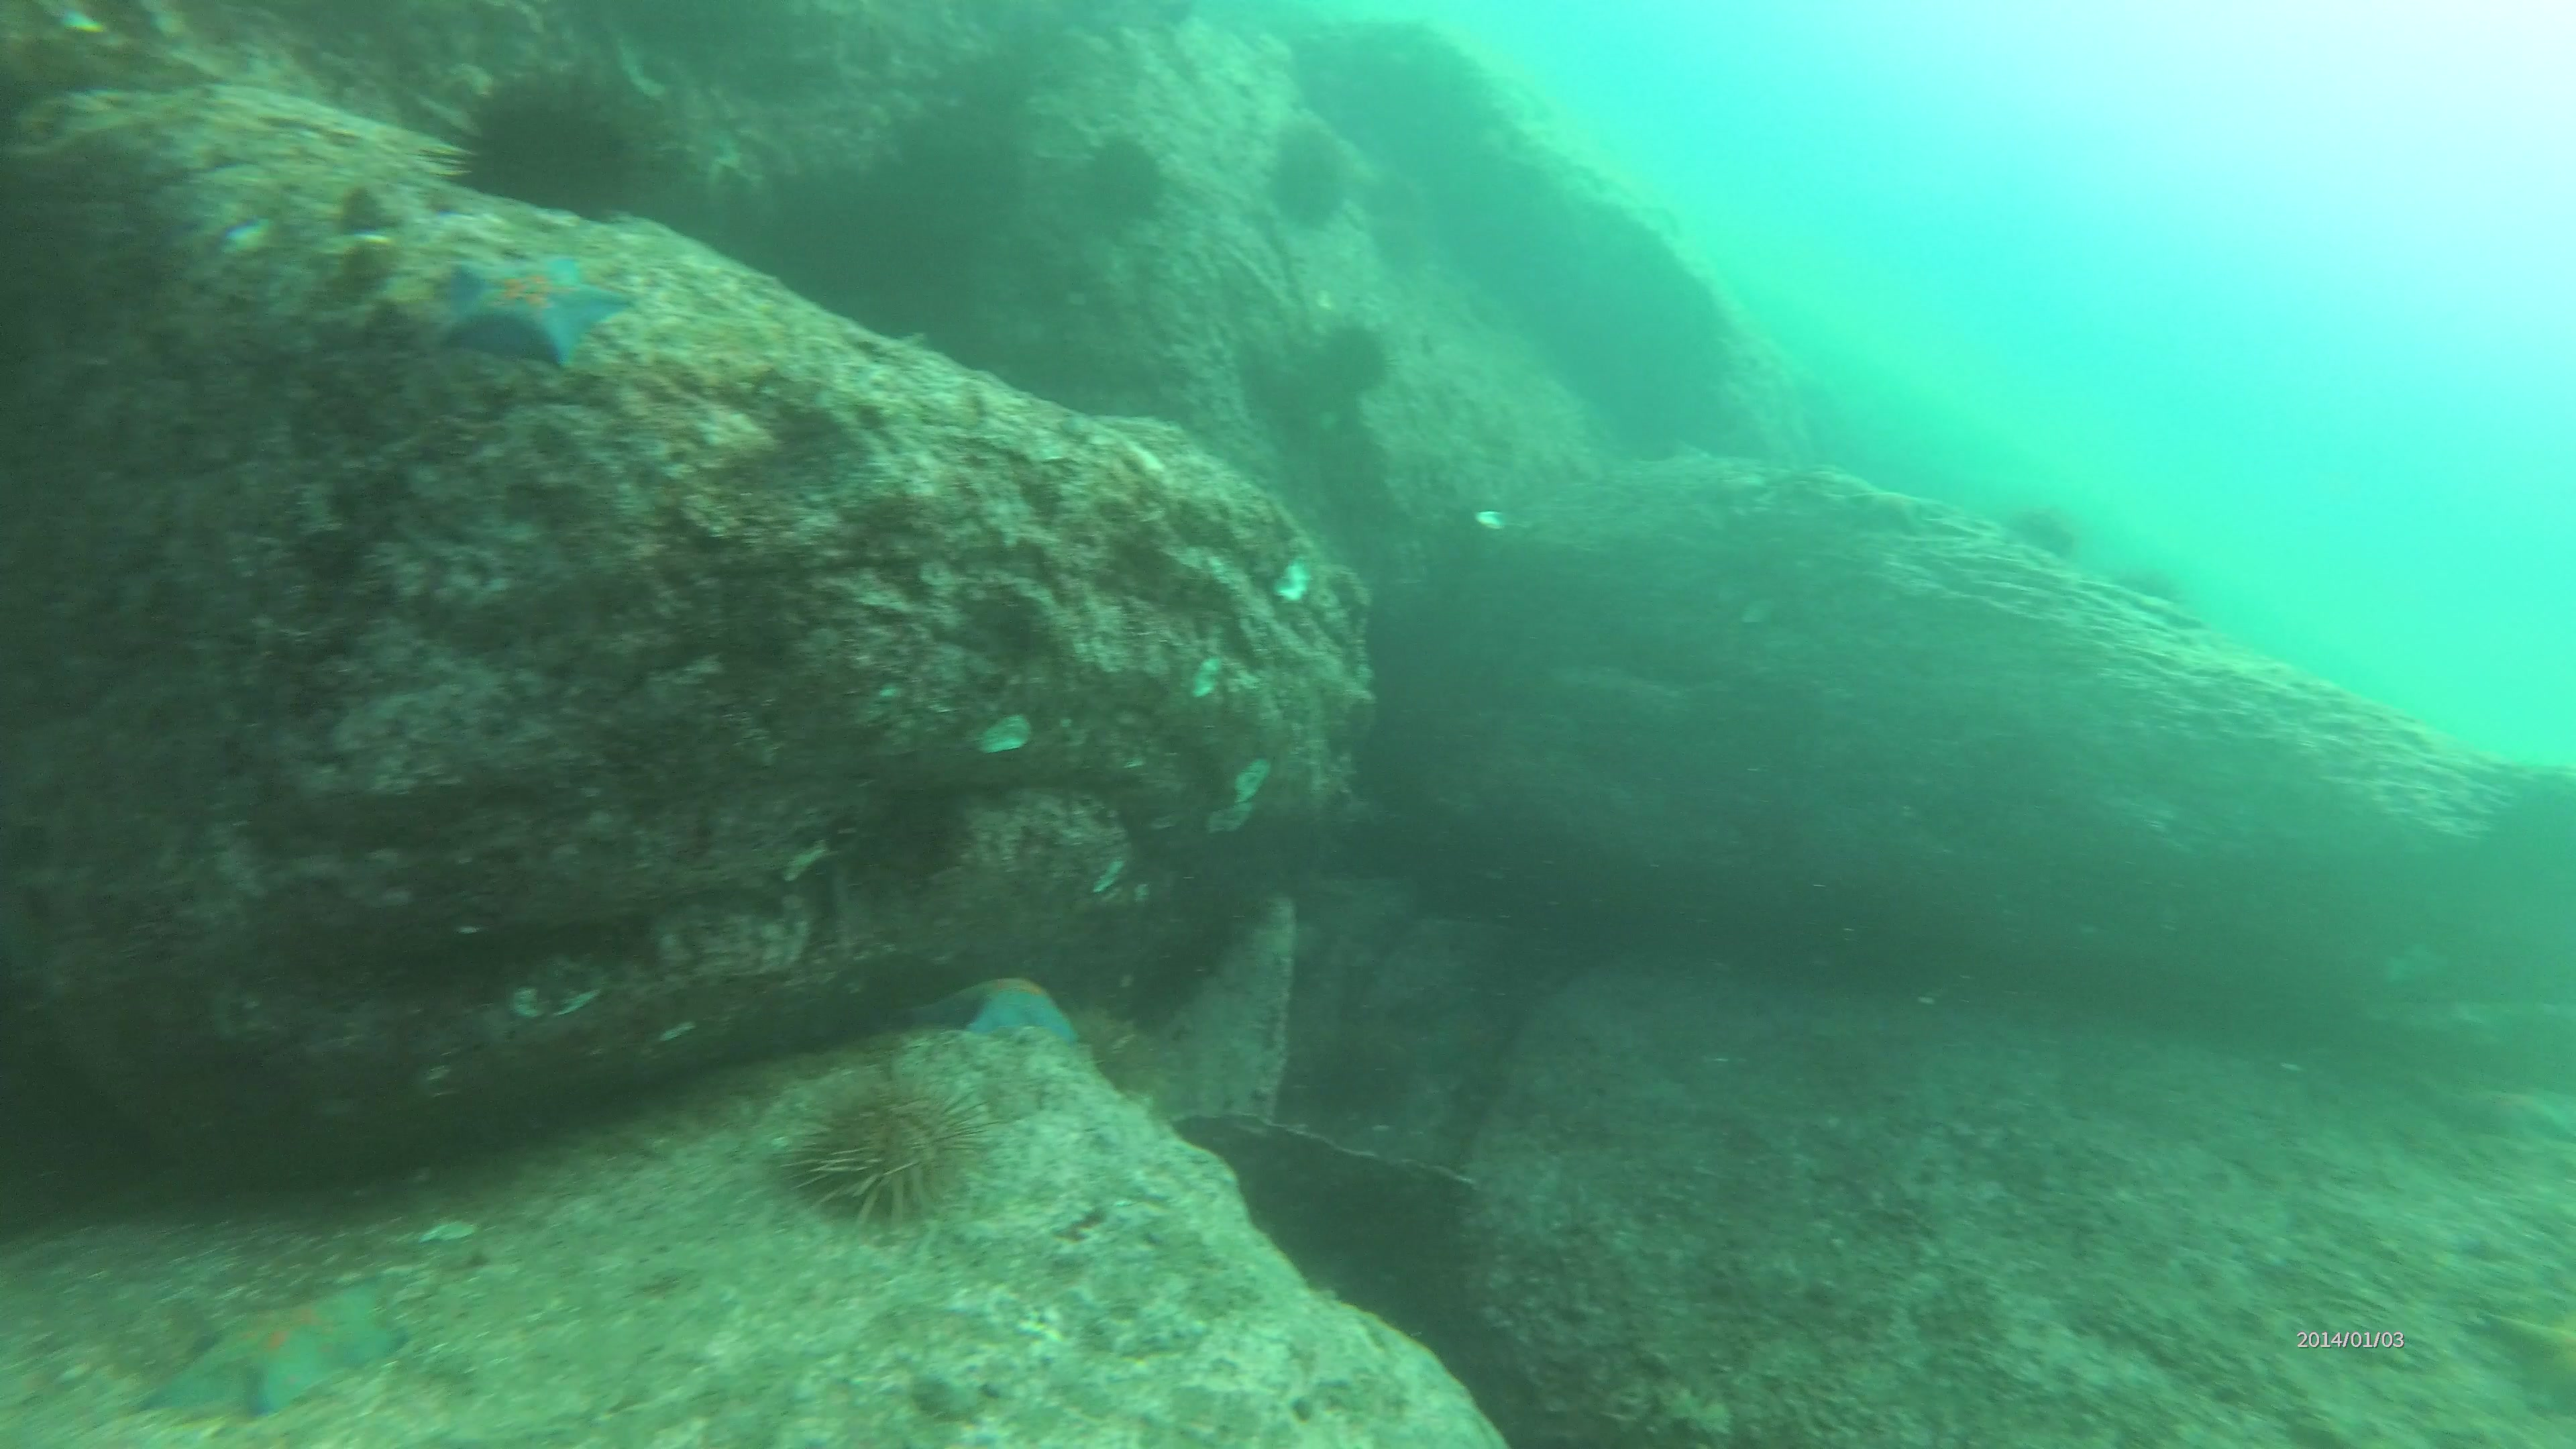echinus: (786, 1060, 980, 1226), (448, 78, 630, 223), (1085, 127, 1171, 223), (1269, 124, 1346, 223), (1311, 317, 1392, 400)
starfish: (154, 1277, 410, 1421), (428, 239, 633, 382), (913, 971, 1079, 1051)
